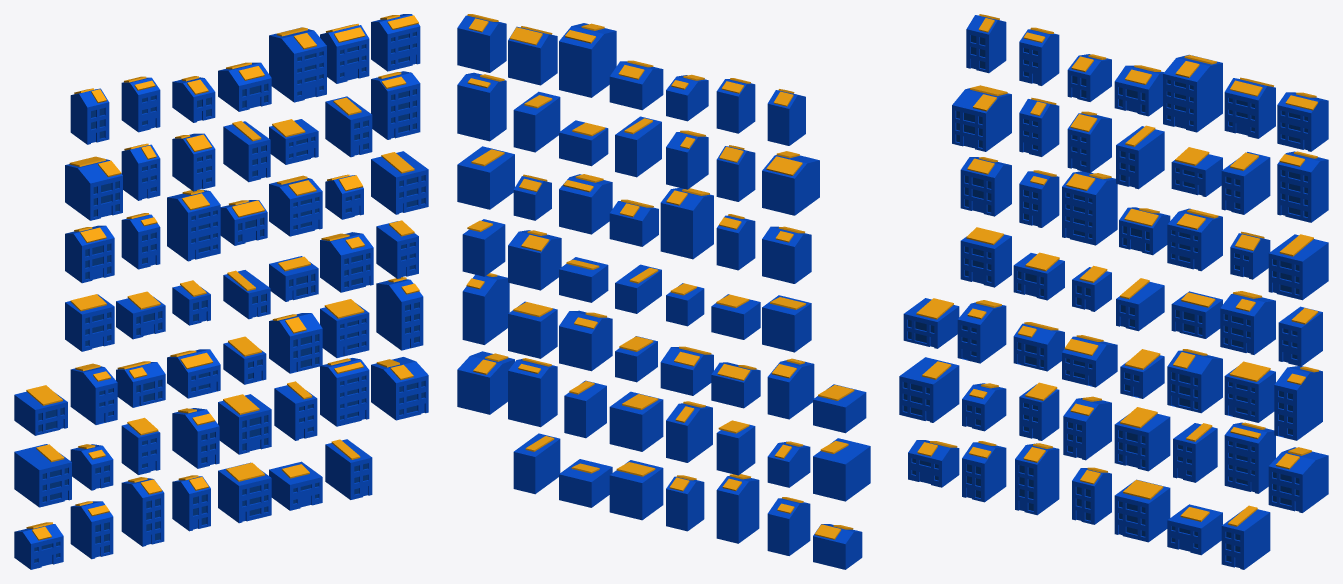
File: Binamevcut.gltf
3 views of the same model, side by side, from view 1: azimuth 30°, elevation 25°; view 2: azimuth 150°, elevation 25°; view 3: azimuth 330°, elevation 25° (orthographic). The views are drawn at different scales.
Parts seen in each view (by area): view 1: Building_049.019, Building_037.019, Building_067.019, Building_061.019, Building_068.019, Building_020.018, Building_064.019, Building_065.019, Building_022.019, Building_059.019, Building_053.019, Building_051.019 (+39 smaller); view 2: Building_049.019, Building_037.019, Building_064.019, Building_061.019, Building_020.018, Building_067.019, Building_065.019, Building_053.019, Building_022.019, Building_068.019, Building_034.019, Building_051.019 (+39 smaller); view 3: Building_049.019, Building_037.019, Building_067.019, Building_068.019, Building_020.018, Building_064.019, Building_065.019, Building_061.019, Building_022.019, Building_059.019, Building_053.019, Building_051.019 (+39 smaller).
Part boxes in pixels (box(x1,y1,x2,y2)): Building_049.019: box(269, 27, 326, 102); Building_037.019: box(167, 189, 220, 261); Building_067.019: box(376, 279, 423, 350); Building_061.019: box(320, 358, 369, 426); Building_068.019: box(371, 357, 428, 420); Building_020.018: box(14, 444, 71, 507); Building_064.019: box(371, 71, 420, 139); Building_065.019: box(371, 151, 428, 214); Building_022.019: box(65, 159, 122, 220); Building_059.019: box(320, 232, 373, 292); Building_053.019: box(269, 313, 322, 373); Building_051.019: box(269, 178, 322, 236); Building_049.019: box(559, 23, 616, 97); Building_037.019: box(660, 188, 713, 259); Building_064.019: box(457, 72, 506, 141); Building_061.019: box(508, 359, 557, 427); Building_020.018: box(813, 438, 870, 501); Building_067.019: box(462, 274, 509, 344); Building_065.019: box(457, 146, 514, 209); Building_053.019: box(559, 310, 612, 371); Building_022.019: box(762, 155, 819, 215); Building_068.019: box(457, 351, 514, 414); Building_034.019: box(716, 476, 759, 543); Building_051.019: box(559, 174, 612, 234); Building_049.019: box(1163, 54, 1222, 132); Building_037.019: box(1062, 171, 1117, 245); Building_067.019: box(1274, 366, 1322, 440); Building_068.019: box(1268, 447, 1328, 512); Building_020.018: box(899, 357, 959, 422); Building_064.019: box(1277, 151, 1328, 222); Building_065.019: box(1268, 234, 1328, 300); Building_061.019: box(1224, 422, 1275, 493); Building_022.019: box(952, 88, 1011, 151); Building_059.019: box(1220, 293, 1275, 354); Building_053.019: box(1167, 350, 1222, 413); Building_051.019: box(1167, 208, 1222, 271).
Size of the model in its own units: 0.5815 by 0.6666 by 0.0652.
